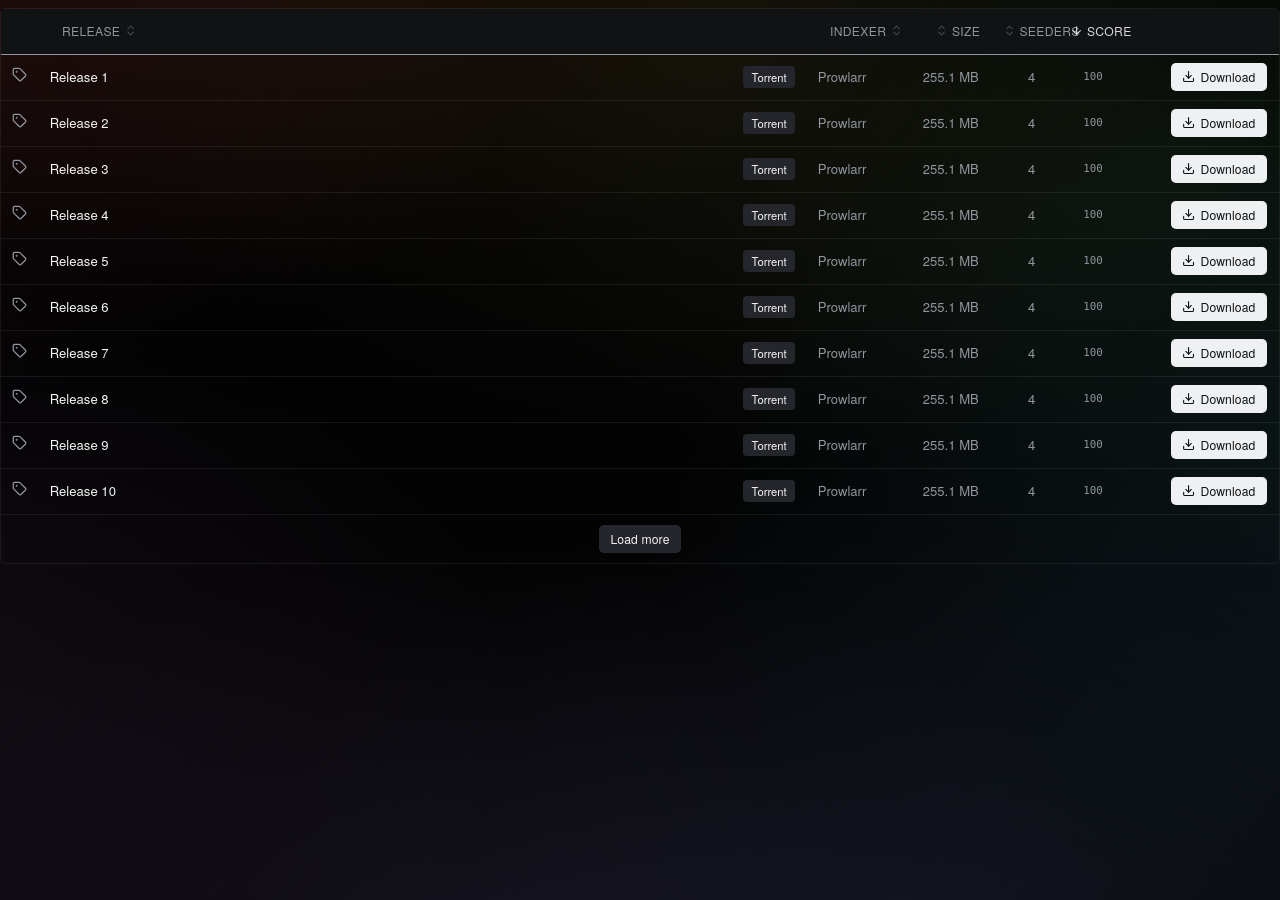
Test: ReleaseTable › reveals release candidates ten at a time
Expected: the text "Release 11" is not shown
Click the button with aria-label "Load 2 more releases": (640, 539) [598,524,682,554]
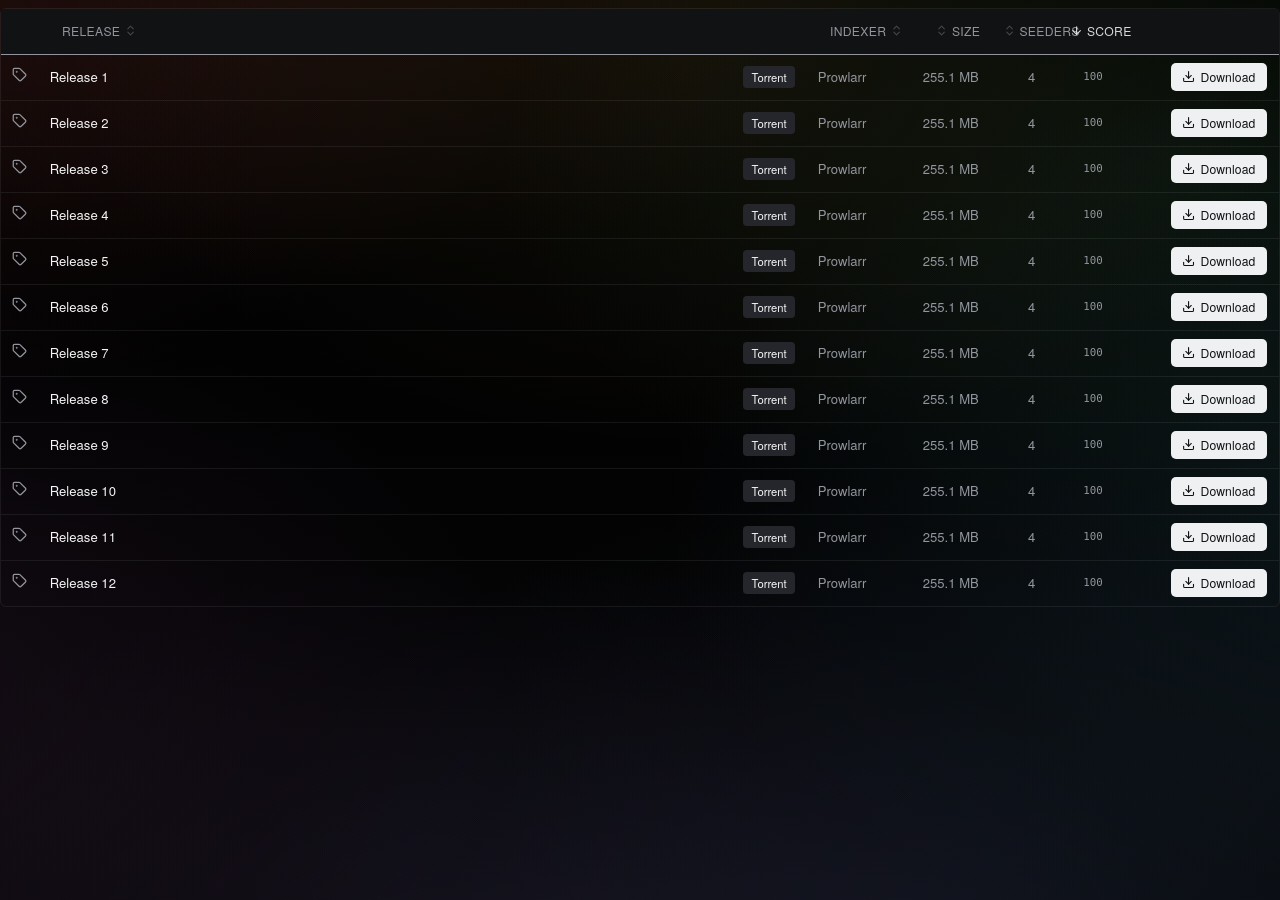
Now the text "Release 11" is shown 2 times
